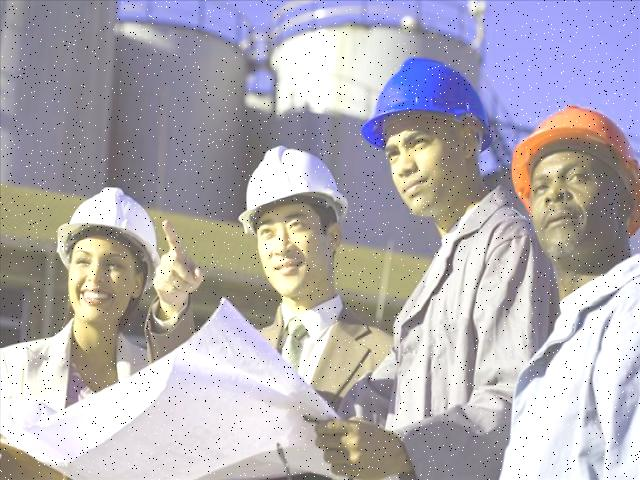Helmet: (505, 99, 639, 212), (356, 52, 500, 156), (234, 142, 350, 239), (50, 181, 162, 280)
